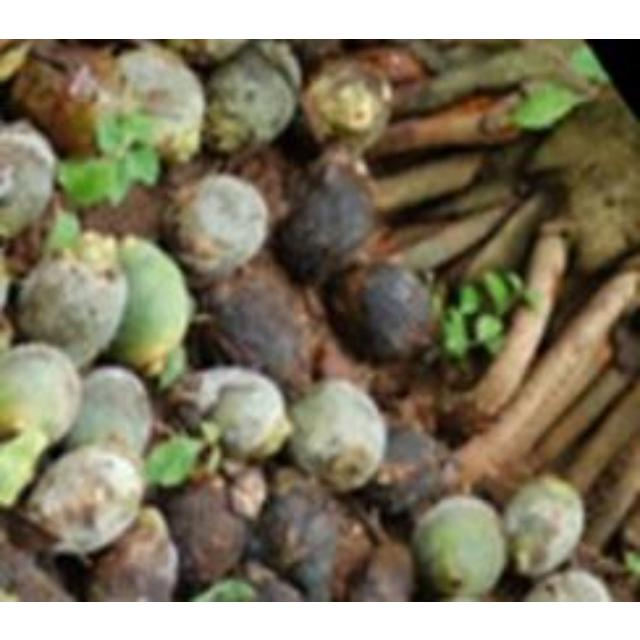damaged: (14, 250, 128, 368), (26, 444, 146, 554), (276, 158, 378, 282), (102, 237, 192, 373), (164, 171, 270, 283), (252, 479, 344, 601), (288, 378, 388, 490), (178, 365, 290, 463), (162, 475, 255, 593), (411, 494, 509, 598), (338, 269, 444, 359), (0, 342, 84, 450), (64, 364, 156, 462), (86, 506, 180, 598), (504, 476, 584, 578), (365, 422, 449, 518)
